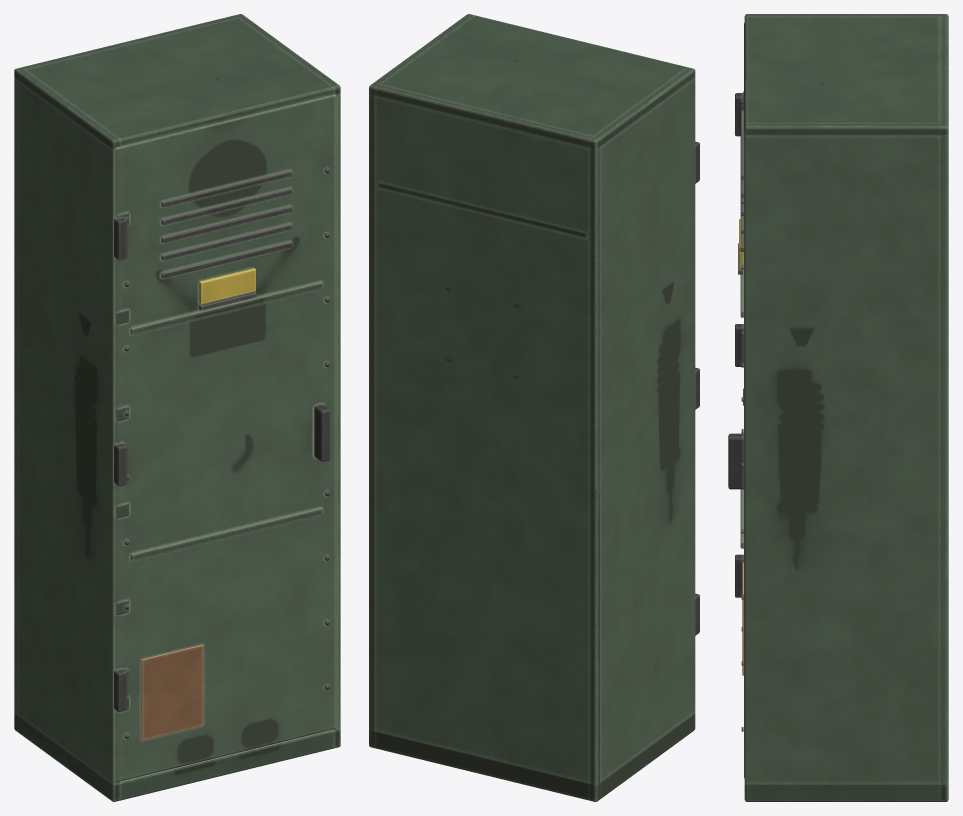
File: airlock_locker_closed.glb
3 renders of one model, left to right at view 1: azimuth 30°, elevation 25°; view 2: azimuth 150°, elevation 25°; view 3: azimuth 270°, elevation 25°, orthographic. The views are drawn at different scales.
Parts seen in each view (by area): view 1: Locker.001; view 2: Locker.001; view 3: Locker.001.
Boxes of the visible parts, bbox=[...] form: Locker.001: bbox=[14, 14, 340, 801]; Locker.001: bbox=[369, 14, 699, 801]; Locker.001: bbox=[728, 14, 948, 801].
Bounding box in the file's own units: 0.74 × 2.05 × 0.605.
Materials: 7 (7 with a texture image).
